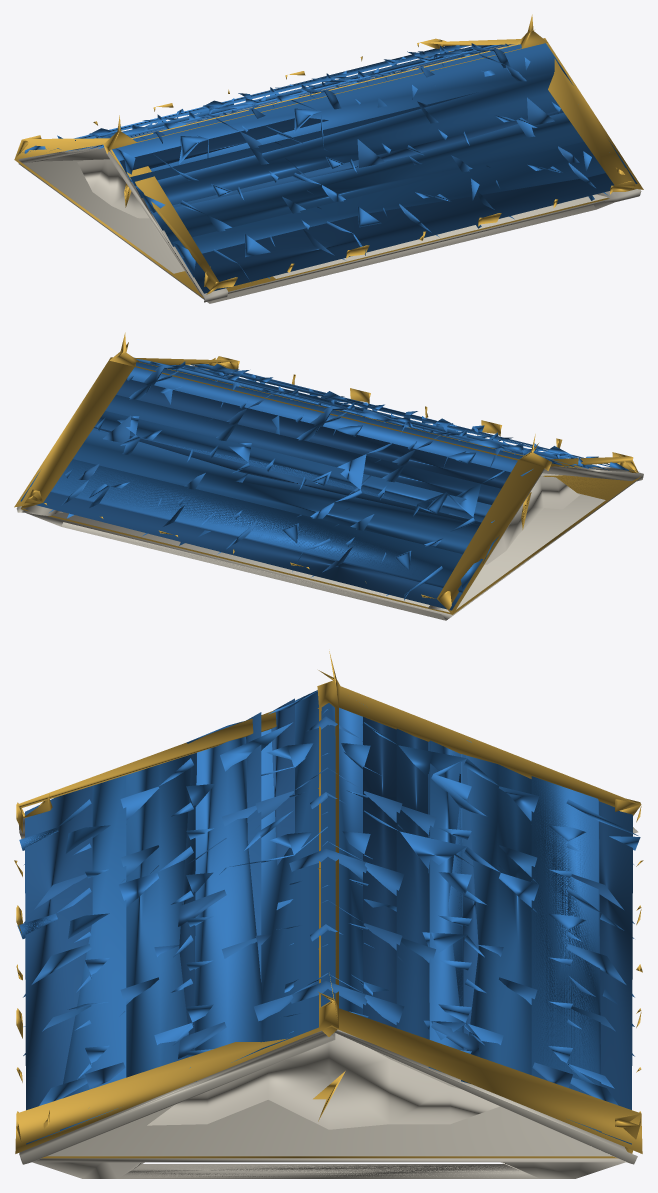
File: home_villa-roof_t3_azure.glb
The picture shows the model from 3 angles, top to bottom: view 1: azimuth 30°, elevation 25°; view 2: azimuth 150°, elevation 25°; view 3: azimuth 270°, elevation 25°; orthographic projection. The views are drawn at different scales.
Visible parts, largest first — view 1: tile2, tile1, tile0, marble, gold; view 2: tile2, tile0, tile1, gold, marble; view 3: tile2, marble, tile0, tile1, gold.
Part boxes in pixels (<box>): tile2: <box>24,43,626,282</box>; tile1: <box>17,44,637,293</box>; tile0: <box>54,44,608,278</box>; marble: <box>18,44,641,303</box>; gold: <box>14,14,643,297</box>; tile2: <box>30,357,629,600</box>; tile0: <box>49,365,608,595</box>; tile1: <box>20,364,636,610</box>; gold: <box>14,332,640,614</box>; marble: <box>16,365,643,620</box>; tile2: <box>17,690,640,1132</box>; marble: <box>19,813,638,1178</box>; tile0: <box>23,709,634,1105</box>; tile1: <box>23,698,634,1144</box>; gold: <box>14,651,643,1158</box>.
Size of the model in its own units: 7.35 by 2.17 by 5.7.
